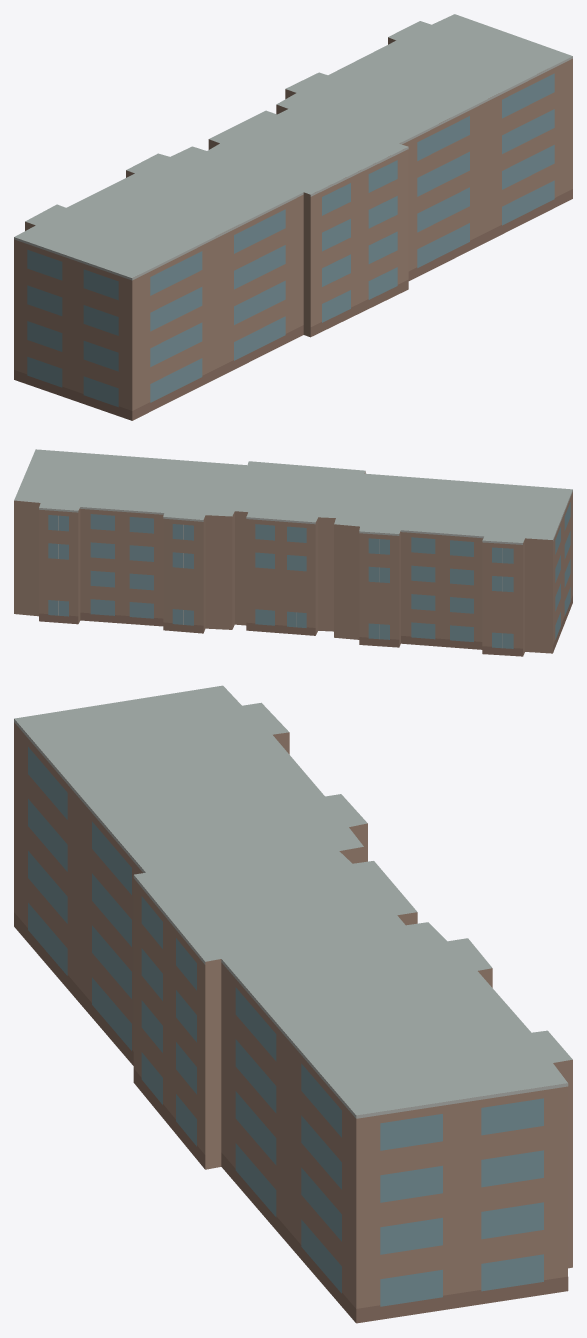
Rendered from survey-upis-32846483.glb.
The picture shows the model from 3 angles, top to bottom: view 1: azimuth 30°, elevation 25°; view 2: azimuth 150°, elevation 25°; view 3: azimuth 270°, elevation 25°; orthographic projection. The views are drawn at different scales.
Parts seen in each view (by area): view 1: survey-upis-32846483.tmp; view 2: survey-upis-32846483.tmp; view 3: survey-upis-32846483.tmp.
Boxes of the visible parts, x1,y1,x2,y2 form: survey-upis-32846483.tmp: (14,14,572,420); survey-upis-32846483.tmp: (14,449,572,656); survey-upis-32846483.tmp: (14,685,572,1323).
Size of the model in its own units: 67.15 by 15.14 by 36.89.
